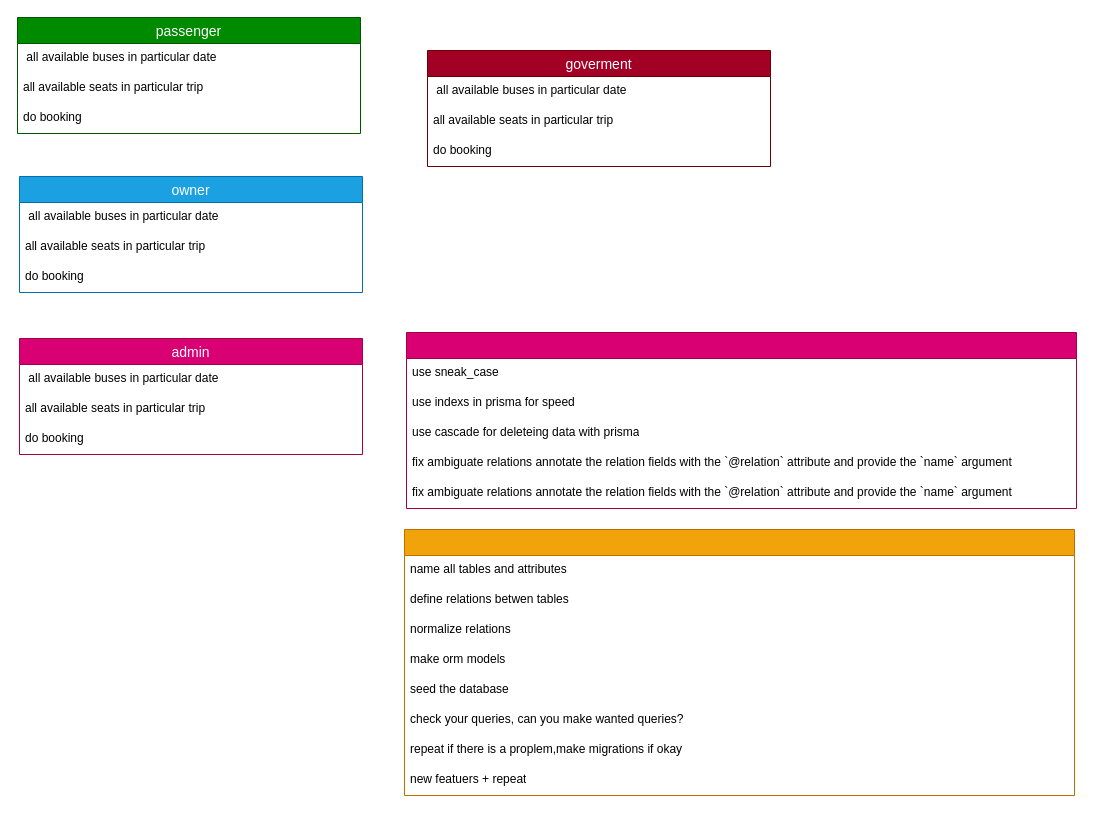
This 1094x816 diagram has some shape labels left out. Here are the shapes that lost their labels. From the top down, the box of each, then its label:
(406, 332, 1076, 508): important things
(404, 528, 1074, 796): making databse flow
